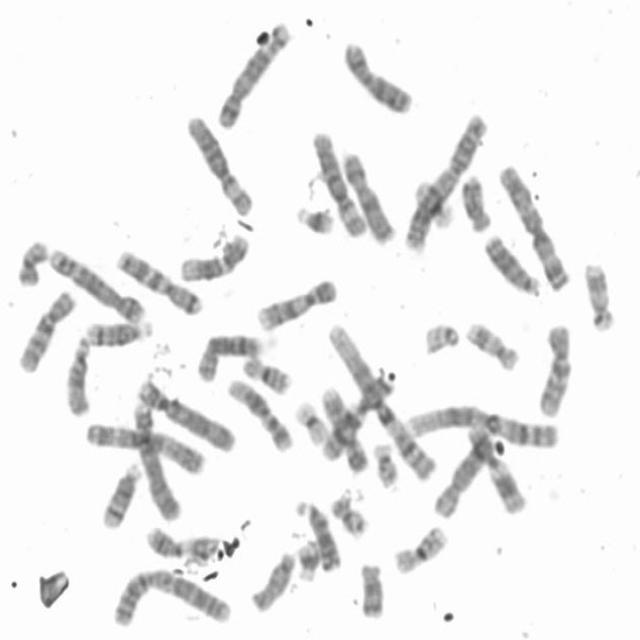A1: (323, 320, 439, 482), (403, 399, 562, 451)
A2: (401, 112, 488, 253), (109, 563, 233, 628)
A3: (495, 158, 572, 292), (83, 418, 206, 478)
B4: (134, 376, 236, 454), (129, 394, 184, 522)
B5: (213, 18, 292, 130), (46, 244, 148, 324)
C10: (14, 284, 78, 376), (533, 317, 575, 420)
C11: (463, 419, 530, 516), (144, 524, 223, 562)
C12: (223, 373, 295, 455), (176, 230, 251, 283)
C6: (182, 110, 254, 216), (308, 127, 369, 239)
C7: (322, 376, 400, 460), (113, 246, 205, 316)
C8: (428, 420, 501, 521), (193, 329, 264, 382)
C9: (315, 381, 369, 476), (254, 273, 340, 331)
D13: (481, 230, 543, 297), (291, 496, 341, 574)
D14: (98, 457, 143, 530), (81, 315, 154, 347)
D15: (247, 548, 297, 614), (62, 332, 92, 419)
E16: (389, 521, 449, 577), (238, 352, 293, 396)
E17: (461, 316, 522, 373), (580, 256, 616, 334)
E18: (457, 170, 493, 234), (354, 556, 388, 621)
F19: (410, 176, 456, 230), (291, 396, 331, 448)
F20: (13, 236, 50, 289), (326, 494, 369, 539)
G21: (292, 200, 336, 238), (293, 537, 321, 584)
G22: (368, 437, 400, 491), (421, 318, 460, 358)
X: (339, 36, 416, 117), (338, 146, 396, 246)
